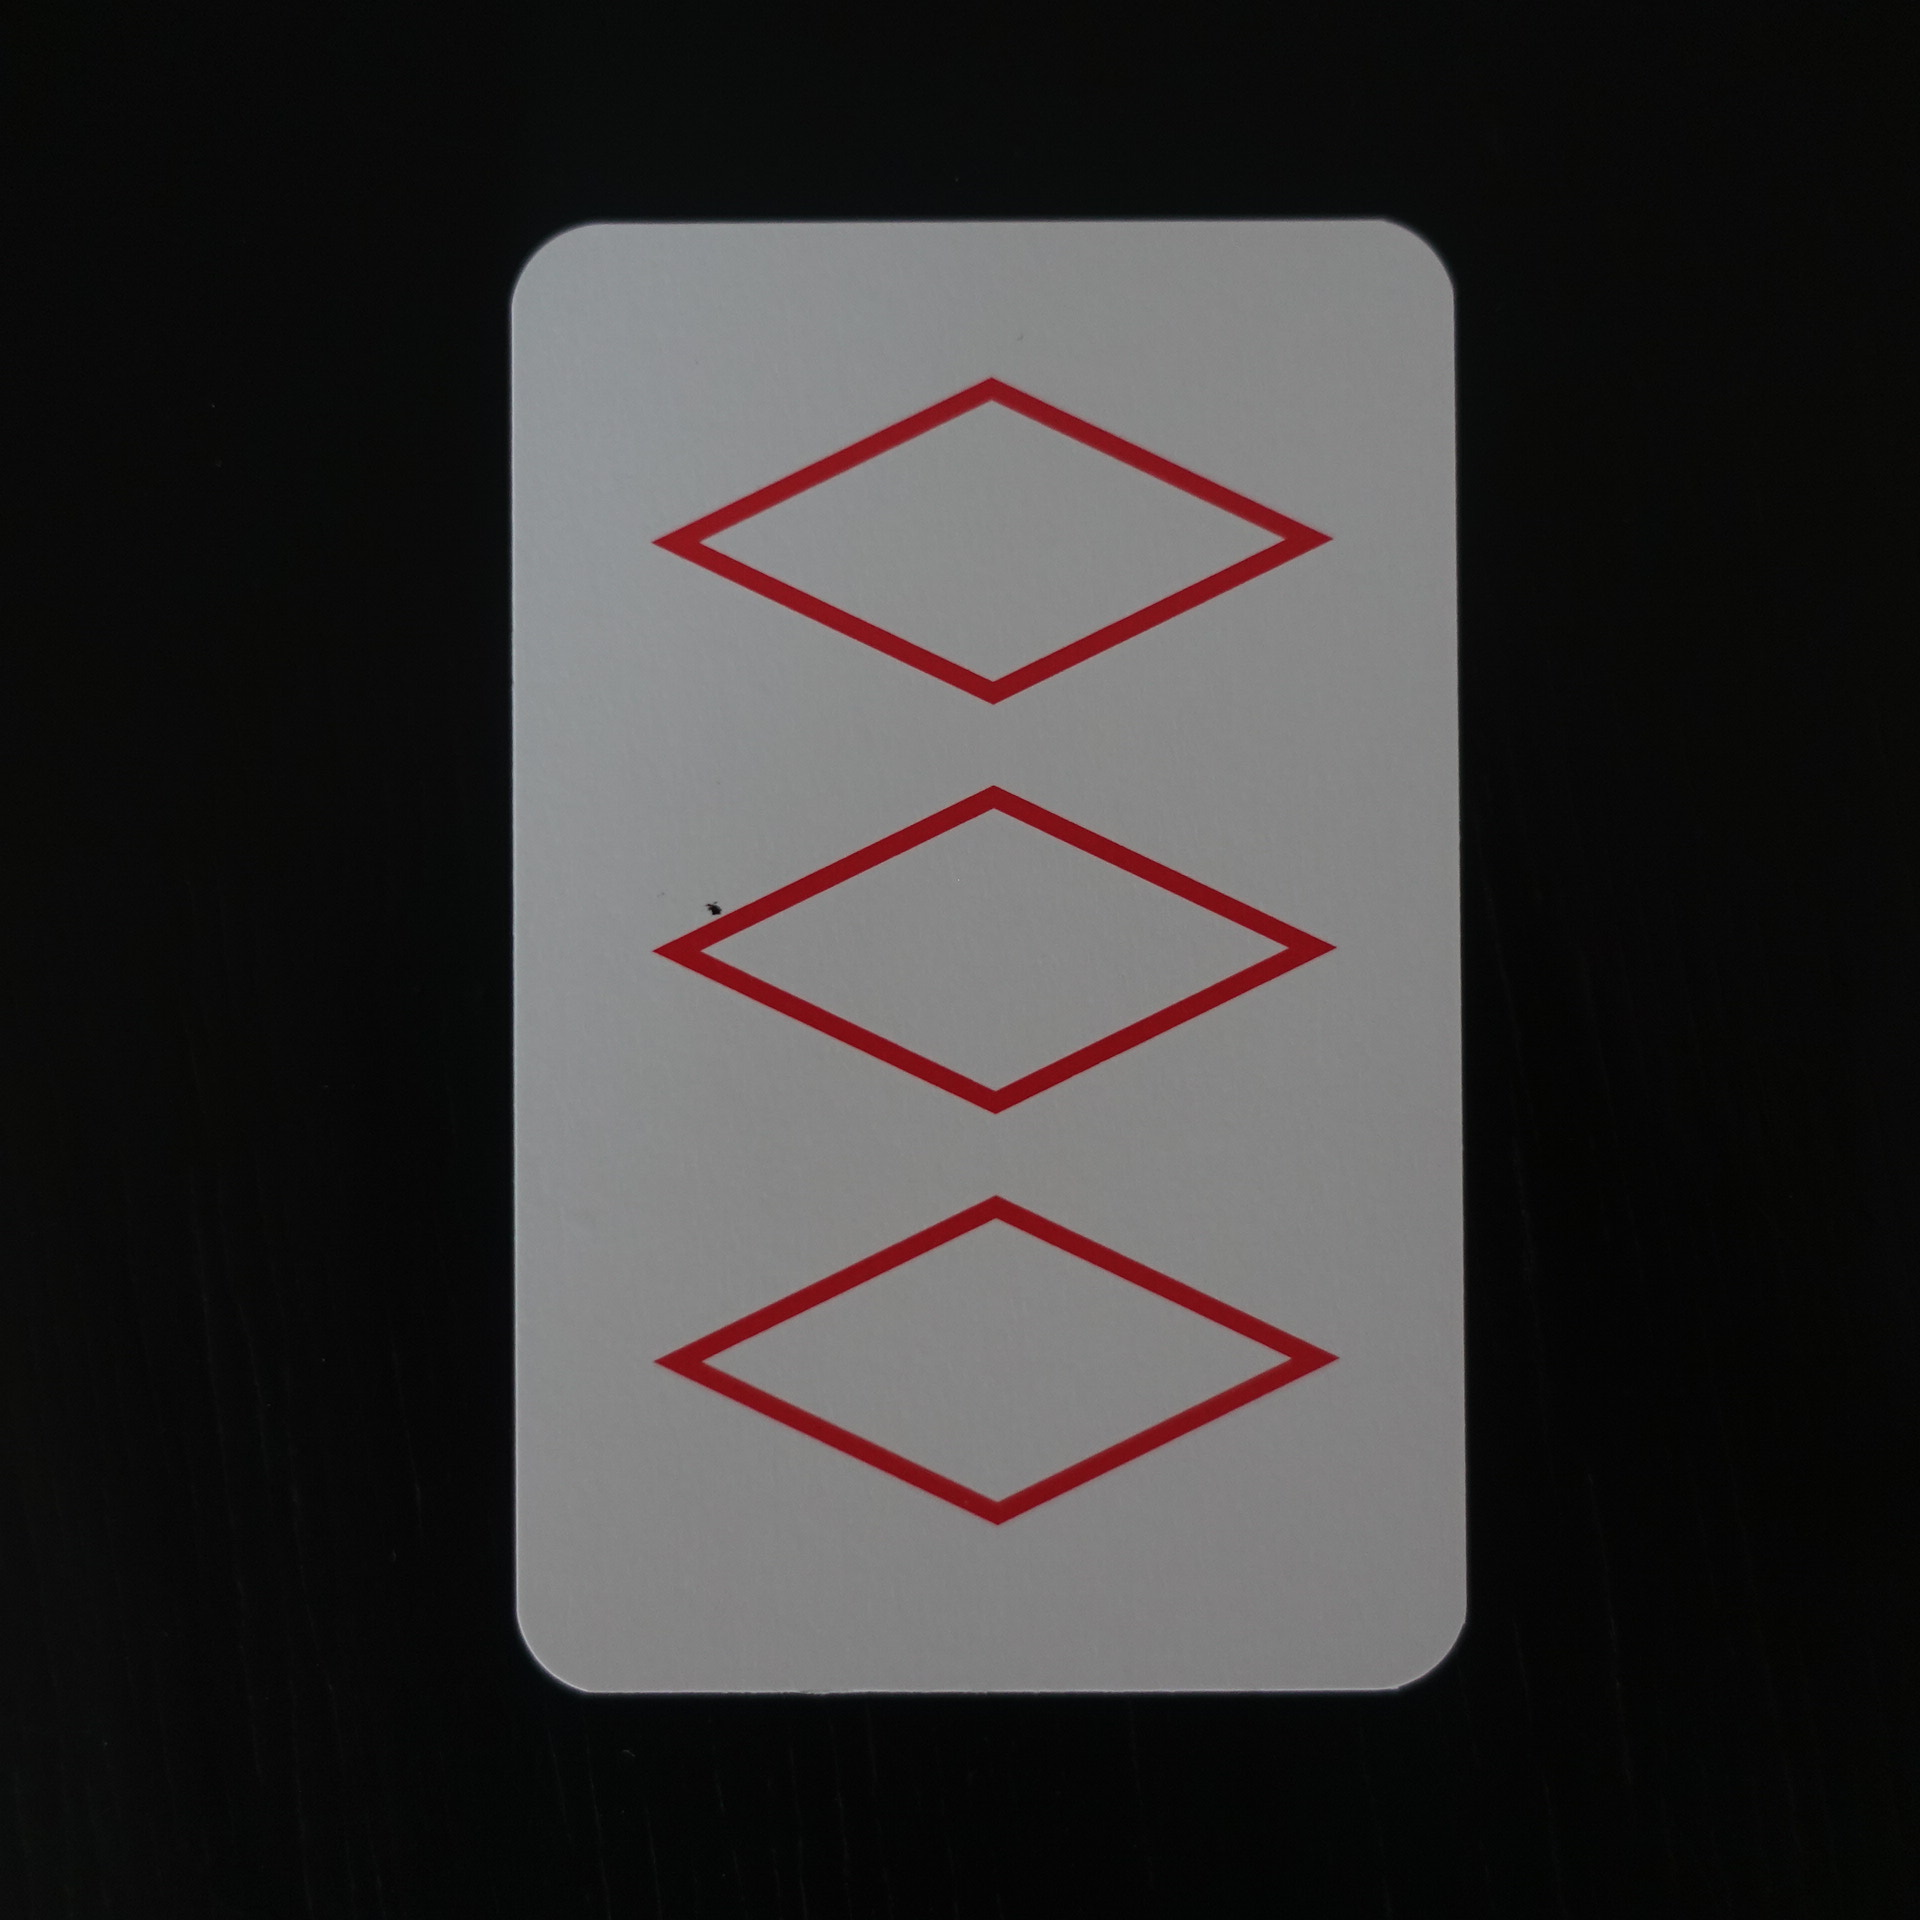c-3-u-d-r: (473, 192, 1503, 1730)
